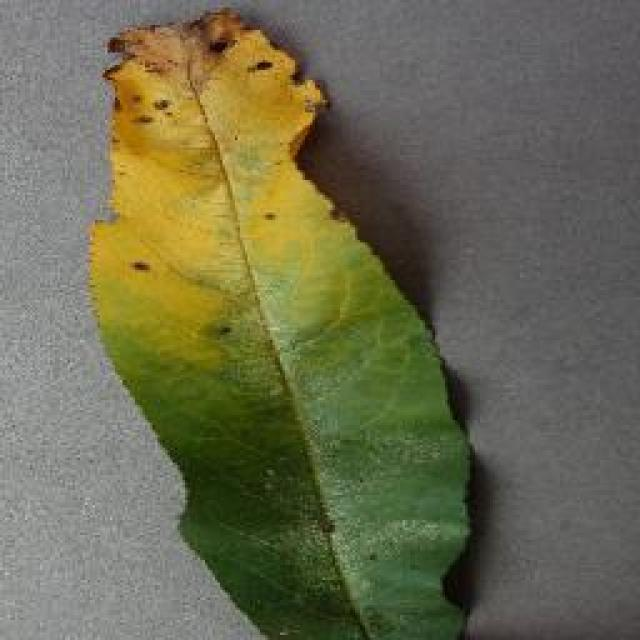Peach_Bacterial_Spot: (82, 10, 393, 317)
